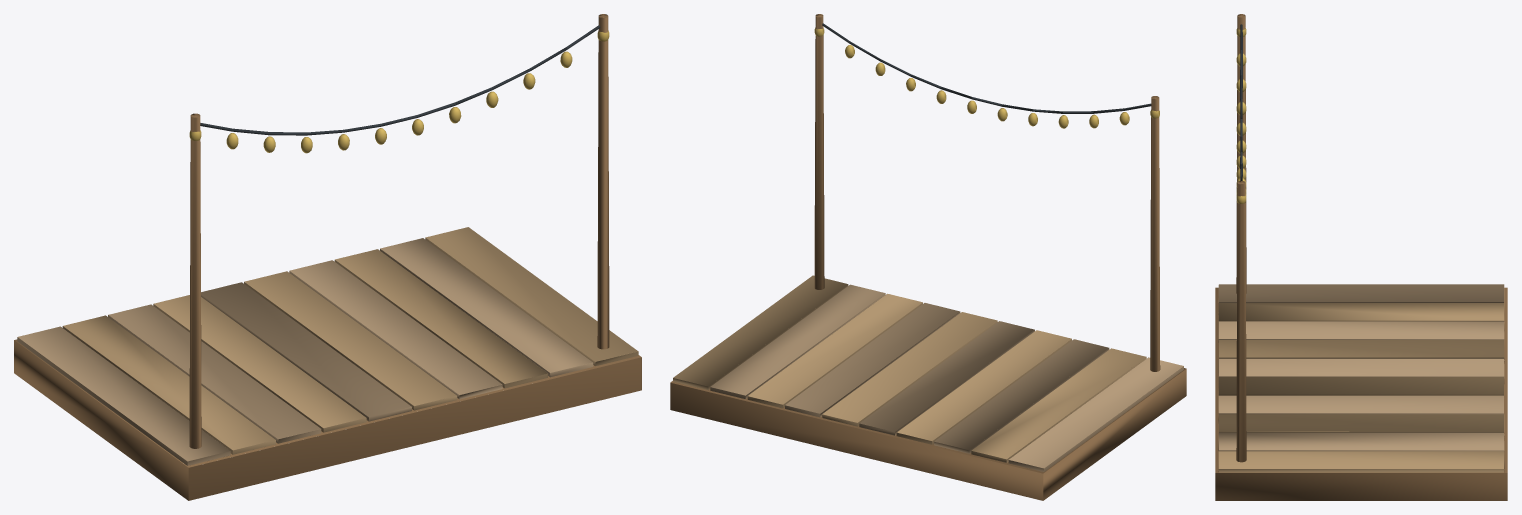
The model's file is busk_stage.glb.
The picture shows the model from 3 angles, left to right: view 1: azimuth 30°, elevation 25°; view 2: azimuth 150°, elevation 25°; view 3: azimuth 270°, elevation 25°; orthographic projection. The views are drawn at different scales.
Size of the model in its own units: 3 by 2.33 by 2.
